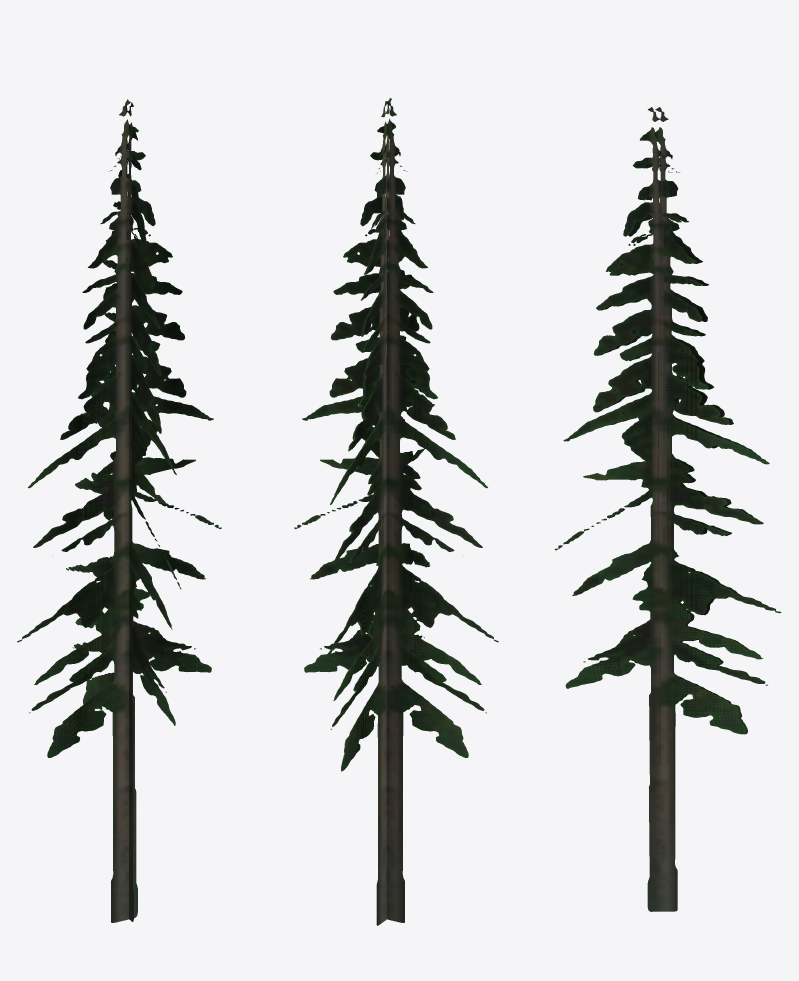
The model's file is conf_mtns_sparse_l3.fbx.
The picture shows the model from 3 angles, left to right: view 1: azimuth 30°, elevation 25°; view 2: azimuth 150°, elevation 25°; view 3: azimuth 270°, elevation 25°; orthographic projection.
Parts seen in each view (by area): view 1: mesh_node; view 2: mesh_node; view 3: mesh_node.
Boxes of the visible parts, <box> form: mesh_node: <box>17,99,221,922</box>; mesh_node: <box>294,98,498,925</box>; mesh_node: <box>554,107,781,911</box>.
Size of the model in its own units: 5.93 by 21.13 by 5.79.
